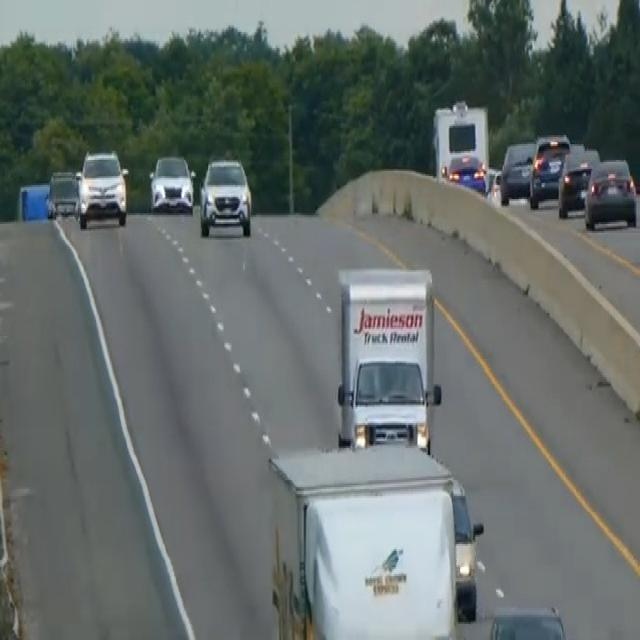bus: (431, 98, 490, 194)
car: (198, 153, 252, 238), (75, 146, 129, 229), (583, 155, 637, 231), (528, 132, 570, 208), (557, 144, 600, 217), (148, 151, 195, 213), (486, 603, 568, 638), (499, 137, 536, 204), (444, 149, 488, 194), (45, 167, 79, 219)
truck: (334, 263, 442, 452)
